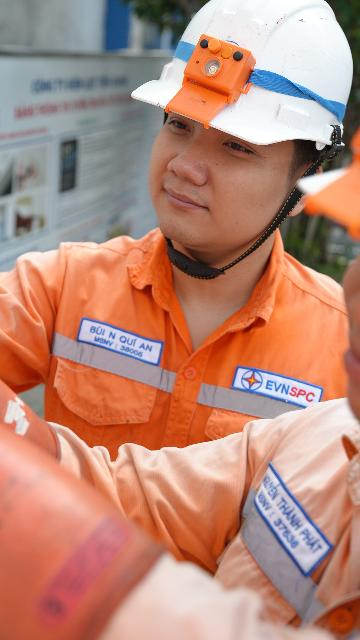helmet: (112, 0, 360, 164)
